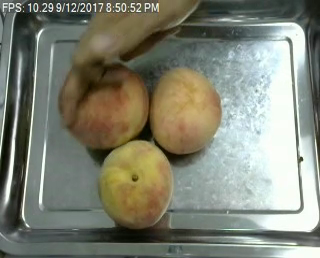Peach: (61, 58, 151, 151), (98, 140, 173, 230), (149, 67, 222, 155)
